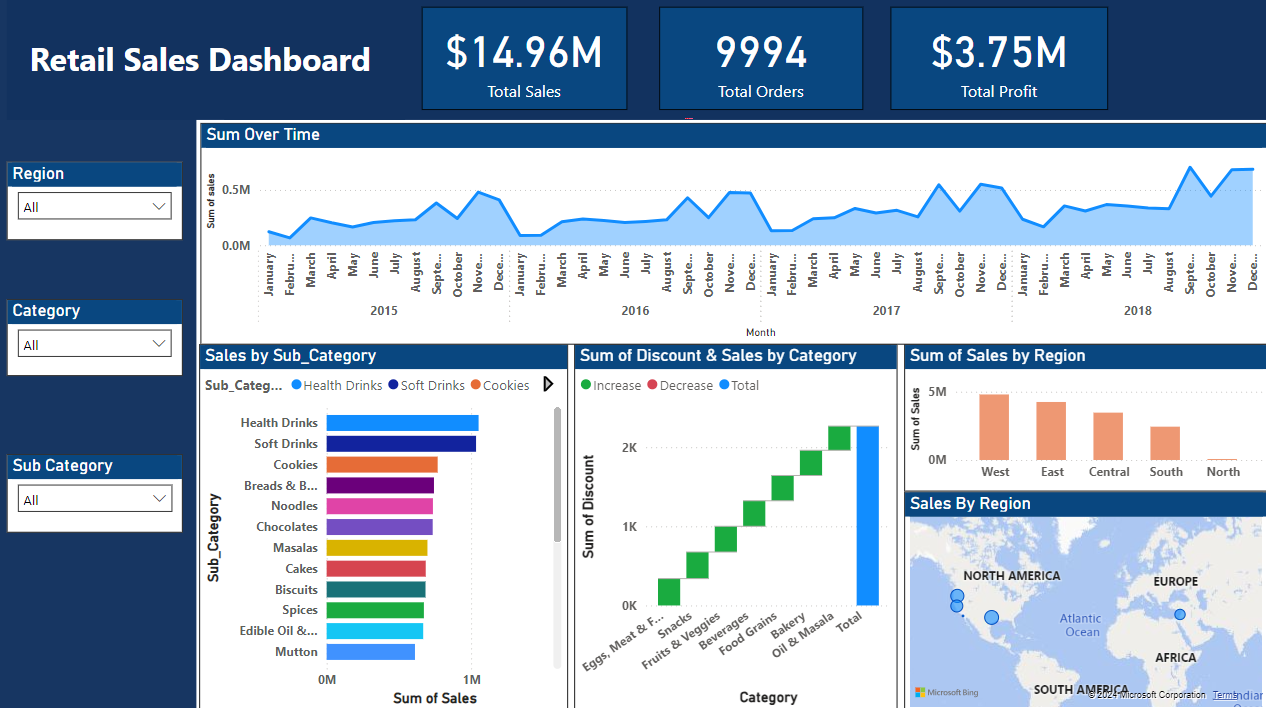

Layout of this report page (visuals, bound fields, positions):
{"tool":"powerbi","page":{"name":"Page 1","canvas":[1280,720],"ordinal":0},"visuals":[{"type":"barChart","title":"Sales by Sub_Category ","fields":{"Category":["cleaned_retail_sales_data.Sub_Category"],"Series":["cleaned_retail_sales_data.Sub_Category"],"Y":["Sum(cleaned_retail_sales_data.Sales)"]},"box":[245.1,347.1,490.1,360.7],"z":2000},{"type":"lineChart","title":"Sum Over Time","fields":{"Category":["cleaned_retail_sales_data.Order_Date.Variation.Date Hierarchy.Year","cleaned_retail_sales_data.Order_Date.Variation.Date Hierarchy.Quarter","cleaned_retail_sales_data.Order_Date.Variation.Date Hierarchy.Month","cleaned_retail_sales_data.Order_Date.Variation.Date Hierarchy.Day"],"Y":["Sum(cleaned_retail_sales_data.Sales)"]},"box":[245.1,166.7,960.3,169.2],"z":3000},{"type":"map","title":"Sales By Region ","fields":{"Category":["cleaned_retail_sales_data.Region"],"Size":["Sum(cleaned_retail_sales_data.Sales)"]},"box":[751.4,347.1,452.8,360.7],"z":4000},{"type":"textbox","box":[10.1,4.3,225.1,708.4],"z":9000},{"type":"textbox","box":[235.1,3.7,970.3,143.1],"z":9062},{"type":"textbox","box":[18.7,3.7,398.1,143.1],"z":9125},{"type":"slicer","title":"Category","fields":{"Values":["cleaned_retail_sales_data.Category"]},"box":[19,305,206,78],"z":9250},{"type":"card","fields":{"Values":["Count(cleaned_retail_sales_data.Order_ID)"]},"box":[670.5,24.9,204,103.2],"z":9312},{"type":"card","fields":{"Values":["Sum(cleaned_retail_sales_data.Sales)"]},"box":[434.1,24.9,205.3,103.2],"z":9343},{"type":"card","fields":{"Values":["Sum(cleaned_retail_sales_data.Profit)"]},"box":[901.9,24.9,217.7,103.2],"z":9375},{"type":"slicer","title":"Region","fields":{"Values":["cleaned_retail_sales_data.Region"]},"box":[19,169,206,78],"z":9500},{"type":"slicer","title":"Sub Category","fields":{"Values":["cleaned_retail_sales_data.Sub_Category"]},"box":[18.7,431.7,206.5,78.4],"z":9501}]}

Visuals, with their boxes in screenshot pixels (x1, y1, x2, y2), scaled from the page's 1280x720 canvas onto the 1266x708 screenshot:
"Sales by Sub_Category " barChart: (x1=242, y1=341, x2=727, y2=696)
"Sum Over Time" lineChart: (x1=242, y1=164, x2=1192, y2=330)
"Sales By Region " map: (x1=743, y1=341, x2=1191, y2=696)
textbox: (x1=10, y1=4, x2=233, y2=701)
textbox: (x1=233, y1=4, x2=1192, y2=144)
textbox: (x1=18, y1=4, x2=412, y2=144)
"Category" slicer: (x1=19, y1=300, x2=223, y2=377)
card - Count(cleaned_retail_sales_data.Order_ID): (x1=663, y1=24, x2=865, y2=126)
card - Sum(cleaned_retail_sales_data.Sales): (x1=429, y1=24, x2=632, y2=126)
card - Sum(cleaned_retail_sales_data.Profit): (x1=892, y1=24, x2=1107, y2=126)
"Region" slicer: (x1=19, y1=166, x2=223, y2=243)
"Sub Category" slicer: (x1=18, y1=425, x2=223, y2=502)
